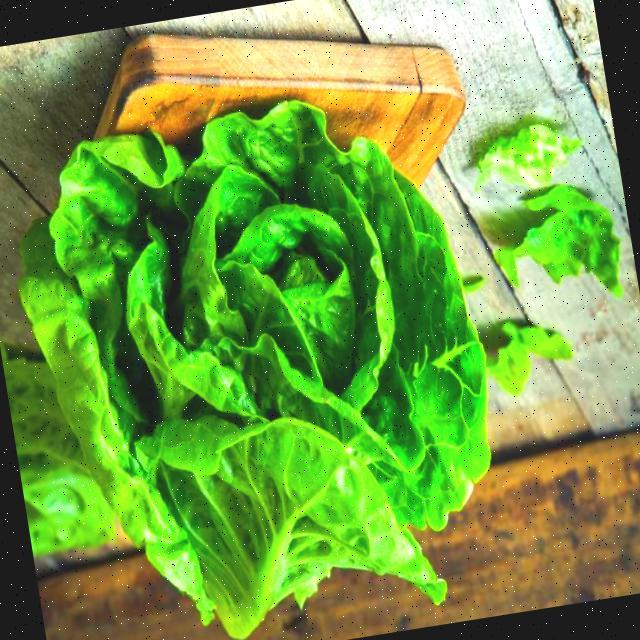Healthy: (48, 156, 460, 636)
